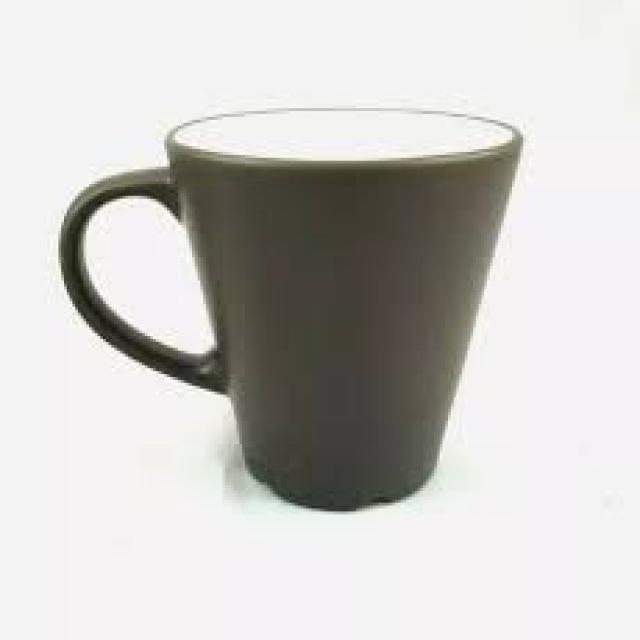taza: (57, 106, 523, 517)
